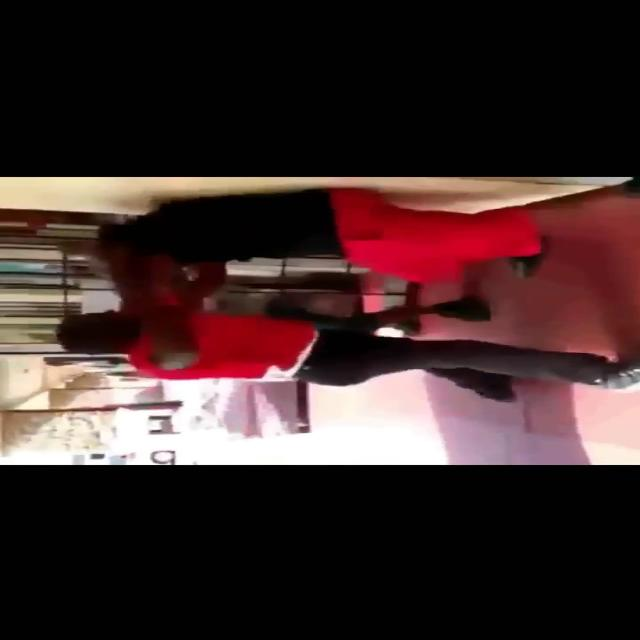Violence: (58, 185, 518, 381)
